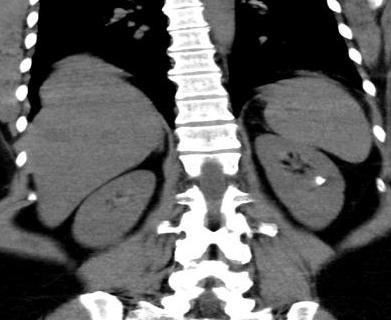Tas_Var: (314, 174, 328, 185)
